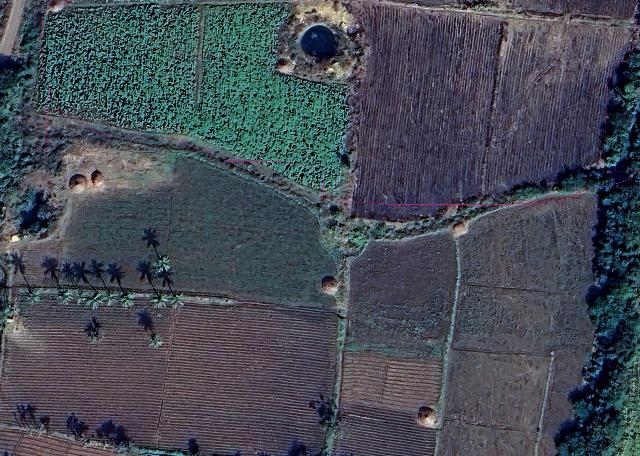Farms: (28, 4, 348, 192), (350, 5, 626, 219), (58, 143, 337, 311), (157, 302, 337, 454), (2, 293, 173, 451), (334, 351, 443, 456)
water: (294, 22, 341, 60)
